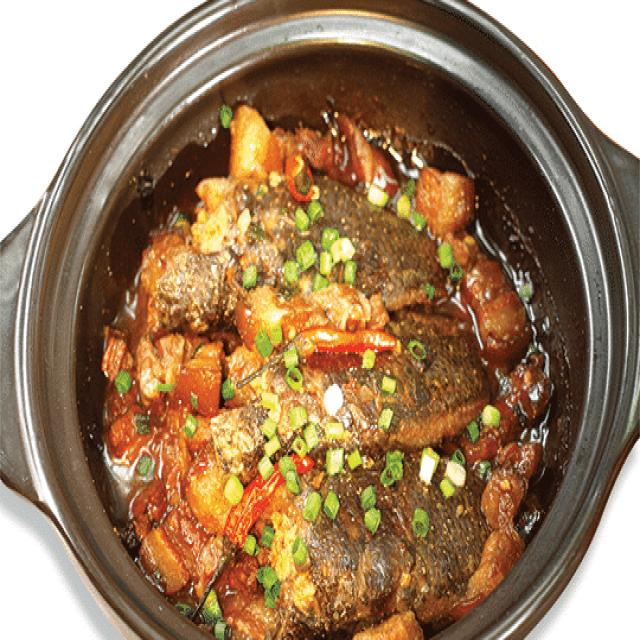ca kho: (96, 92, 556, 638)
